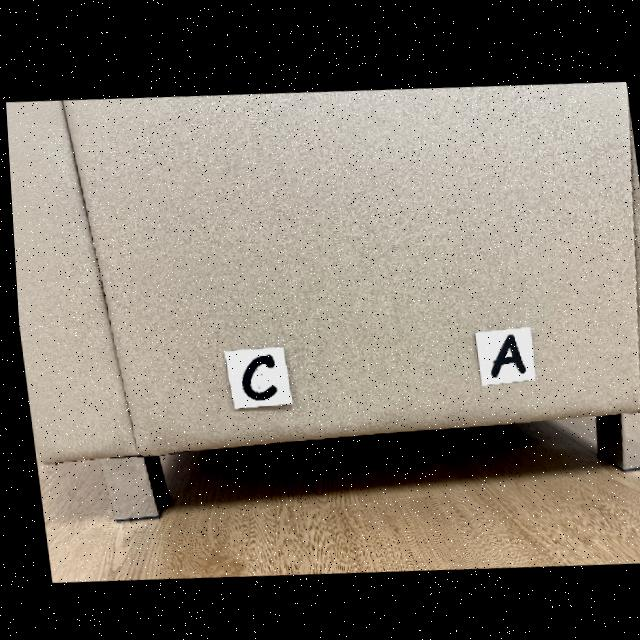A: (486, 331, 521, 372)
C: (237, 352, 272, 398)
